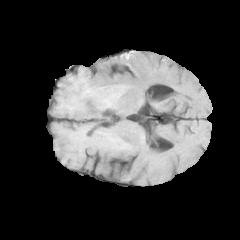glioma: (63, 52, 183, 120)
